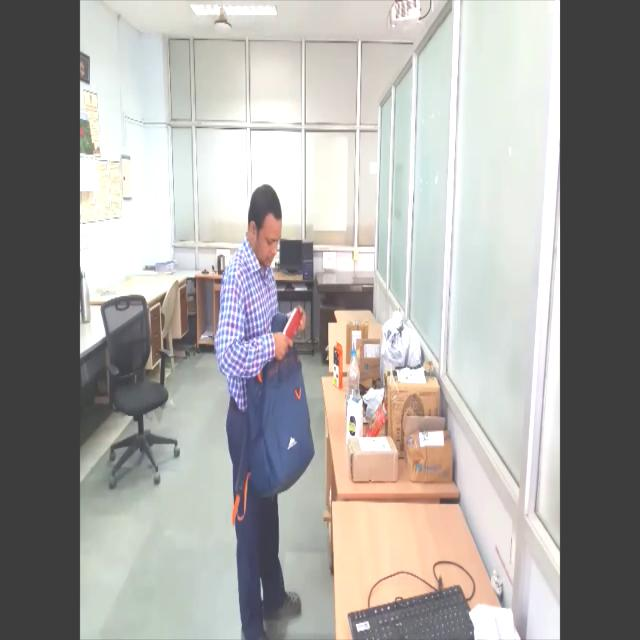shoplifting: (213, 173, 317, 640)
